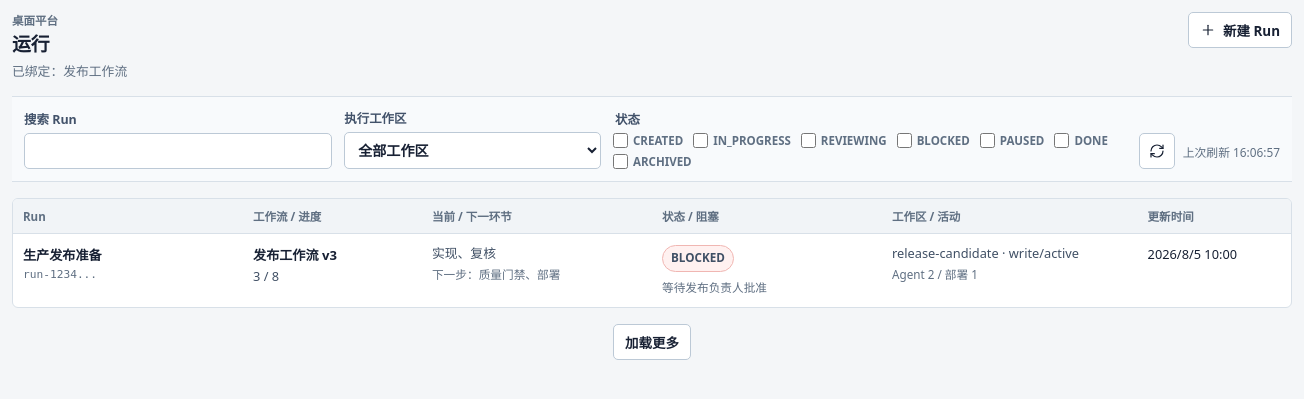
Test: RunListPage › serializes user filters and appends an opaque-cursor page
The width and height of the screenshot is (1304, 399).
expect the text "生产发布准备" is shown: met, box [23,246,102,264]
Click the checkbox named "状态 BLOCKED" at (904, 141), box [897,134,912,148]
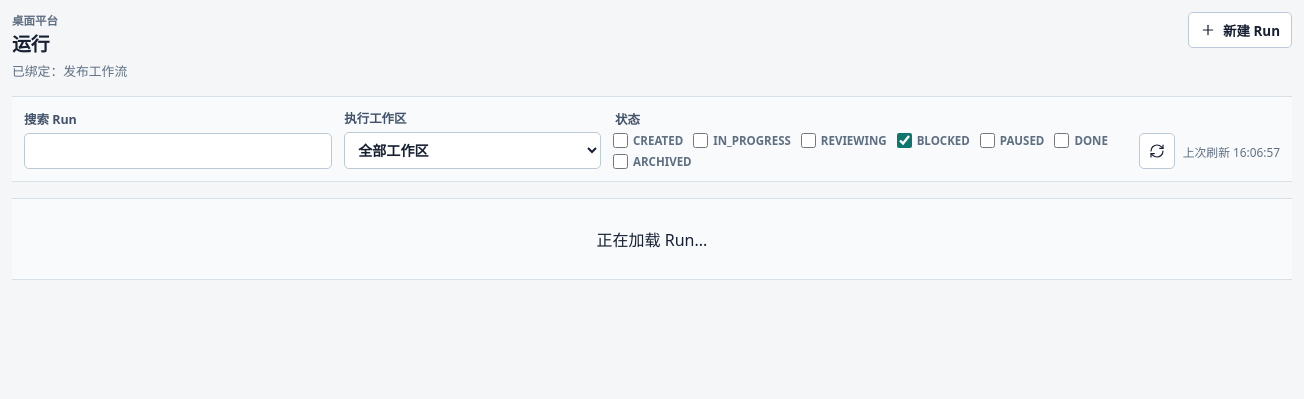
Select "release-candidate" in the dropdown labelled "执行工作区" at (473, 151), box [344,132,601,170]
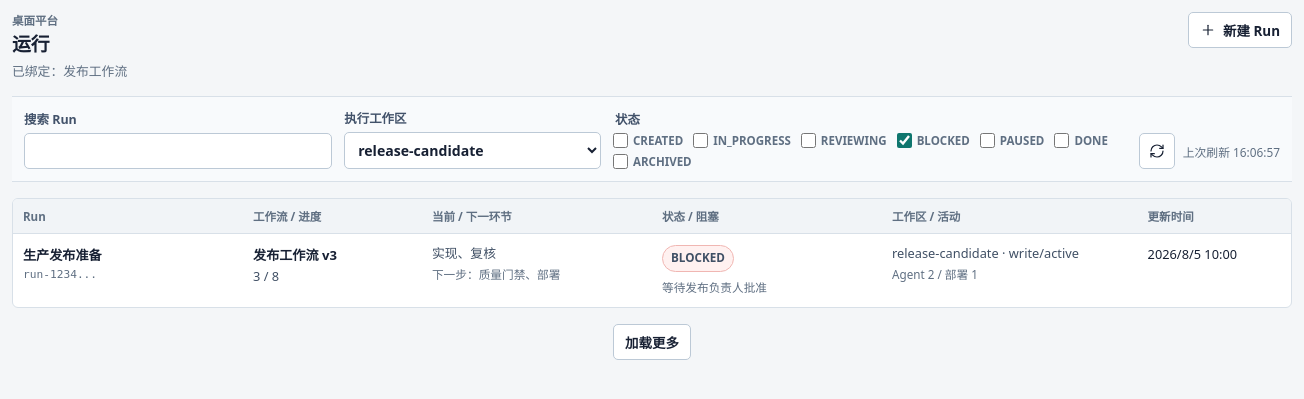
Click the button "加载更多" at (652, 342), box [613,324,691,360]
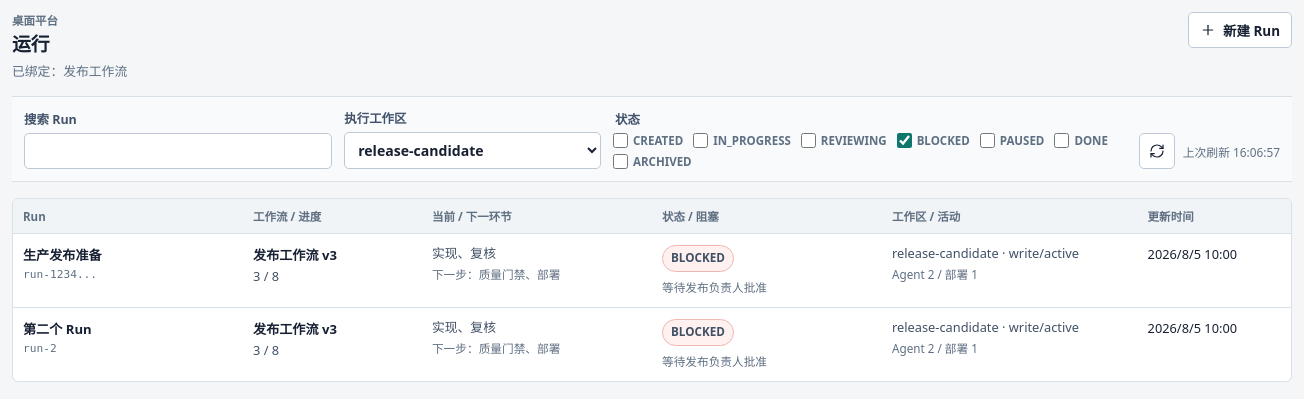
expect the text "第二个 Run" is shown: met, box [23,320,92,338]
